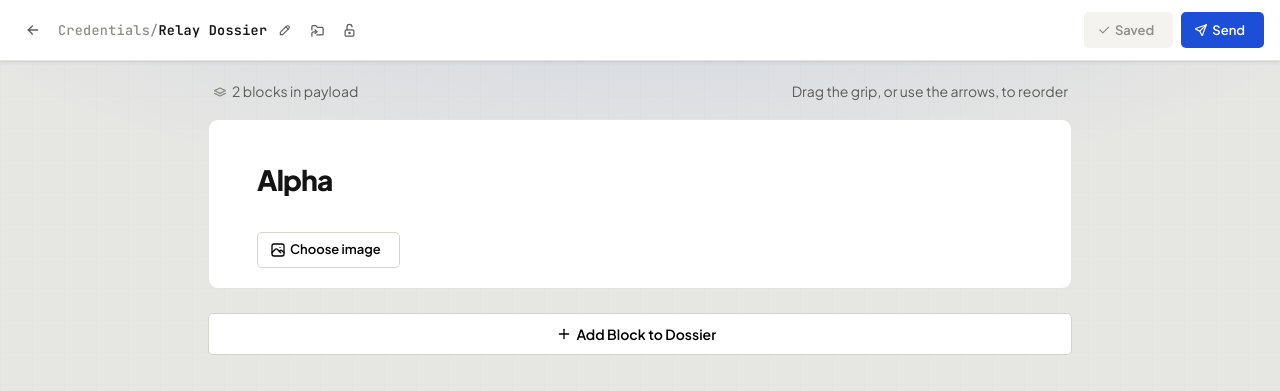
Test case: FileEditView — an attachment block holds a file the user chose › refuses to Send a dossier whose attachment block has no file, and says why
Click the button "Send" at coordinates (1223, 30), box left=1181, top=12, right=1264, bottom=48
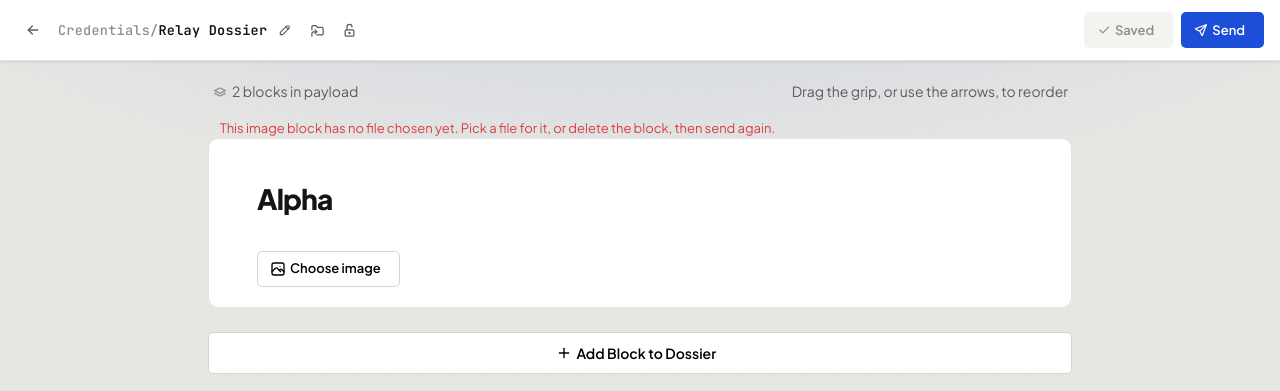
Now the message shows "no file chosen yet", box left=220, top=120, right=775, bottom=136
